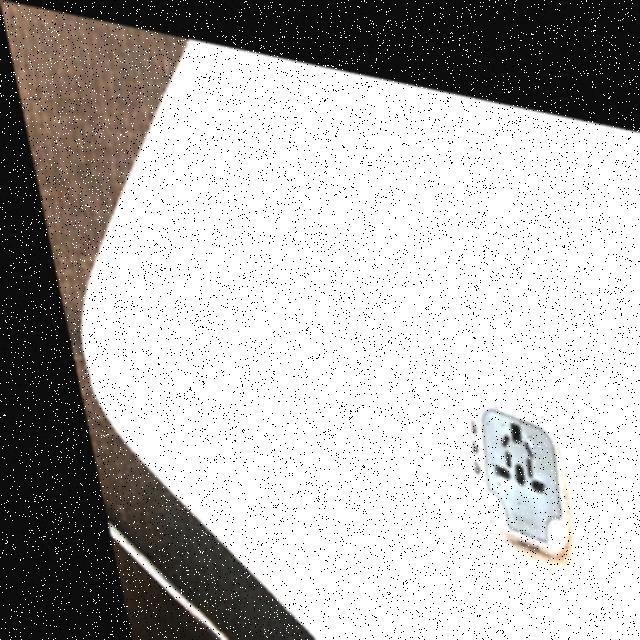adapter: (444, 378, 562, 541)
